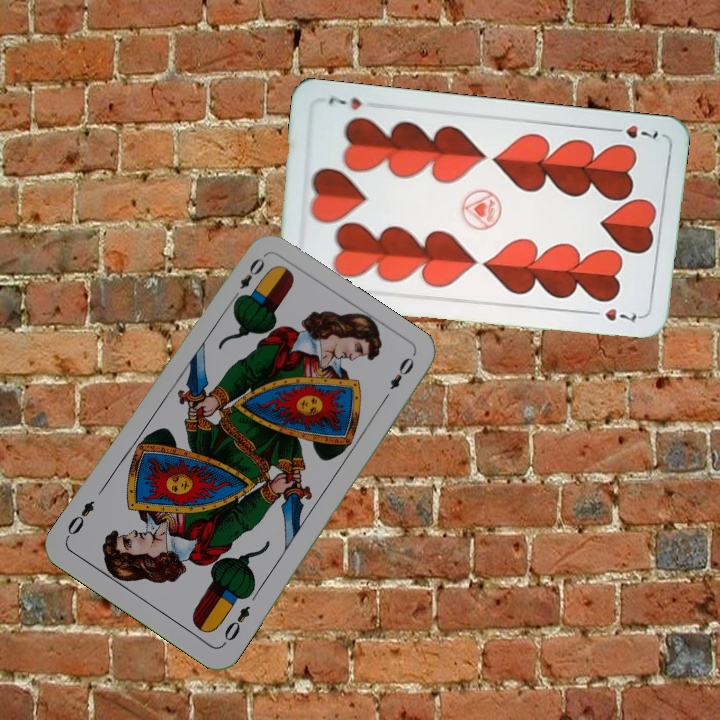EO: (228, 253, 268, 305), (219, 601, 253, 644)
H7: (604, 121, 661, 142)
